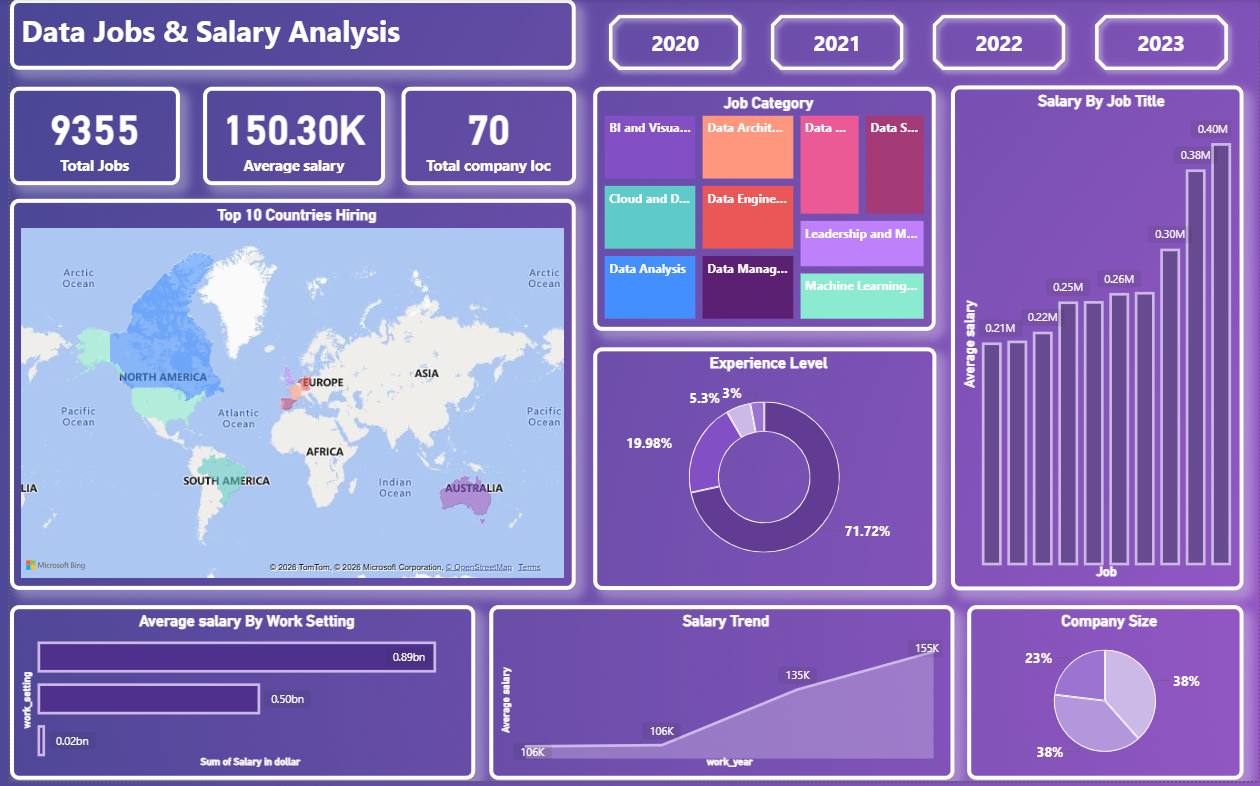

Layout of this report page (visuals, bound fields, positions):
{"tool":"powerbi","page":{"name":"Page 1","canvas":[1372,858],"ordinal":0},"visuals":[{"type":"card","fields":{"Values":["jobs_in_data.Total Jobs"]},"box":[0,96.7,186.7,108.3],"z":0},{"type":"card","fields":{"Values":["jobs_in_data.Average salary"]},"box":[211.7,96.7,200,108.3],"z":1000},{"type":"card","fields":{"Values":["jobs_in_data.Total company loc"]},"box":[430,96.7,191.7,108.3],"z":2000},{"type":"clusteredColumnChart","title":"Salary By Job Title","fields":{"Category":["jobs_in_data.job_title"],"Y":["jobs_in_data.Average salary"]},"box":[1033.3,95,321.7,555],"z":3000},{"type":"donutChart","title":"Experience Level ","fields":{"Category":["jobs_in_data.experience_level"],"Y":["CountNonNull(jobs_in_data.job_title)"]},"box":[640,383.3,376.7,266.7],"z":4000},{"type":"clusteredBarChart","title":"Average salary By Work Setting","fields":{"Category":["jobs_in_data.work_setting"],"Y":["Sum(jobs_in_data.Salary in dollar)"]},"box":[0,666.5,511.3,191.5],"z":5000},{"type":"treemap","title":"Job Category","fields":{"Group":["jobs_in_data.job_category"],"Values":["jobs_in_data.total job category"]},"box":[640,96.7,376.7,268.3],"z":6000},{"type":"pieChart","title":"Company Size","fields":{"Category":["jobs_in_data.company_size"],"Y":["jobs_in_data.total job category"]},"box":[1051.8,666.5,303.5,191.5],"z":7000},{"type":"lineChart","title":"Salary Trend","fields":{"Category":["jobs_in_data.work_year"],"Y":["jobs_in_data.Average salary"]},"box":[525.9,666.5,511.3,191.5],"z":8000},{"type":"filledMap","title":"Top 10 Countries Hiring","fields":{"Category":["jobs_in_data.company_location"],"Series":["jobs_in_data.company_location"]},"box":[0,220,621.7,430],"z":9000},{"type":"textbox","box":[0,0,621.7,77.9],"z":10000},{"type":"advancedSlicerVisual","fields":{"Values":["jobs_in_data.work_year Hierarchy.work_year"]},"box":[640,0,715,95],"z":11000}]}

Visuals, with their boxes in screenshot pixels (x1, y1, x2, y2), scaled from the page's 1372x858 canvas onto the 1260x786 screenshot:
card - jobs_in_data.Total Jobs: select_region(0, 89, 171, 188)
card - jobs_in_data.Average salary: select_region(194, 89, 378, 188)
card - jobs_in_data.Total company loc: select_region(395, 89, 571, 188)
"Salary By Job Title" clusteredColumnChart: select_region(949, 87, 1244, 595)
"Experience Level " donutChart: select_region(588, 351, 934, 595)
"Average salary By Work Setting" clusteredBarChart: select_region(0, 611, 470, 785)
"Job Category" treemap: select_region(588, 89, 934, 334)
"Company Size" pieChart: select_region(966, 611, 1245, 785)
"Salary Trend" lineChart: select_region(483, 611, 953, 785)
"Top 10 Countries Hiring" filledMap: select_region(0, 202, 571, 595)
textbox: select_region(0, 0, 571, 71)
advancedSlicerVisual - jobs_in_data.work_year Hierarchy.work_year: select_region(588, 0, 1244, 87)
